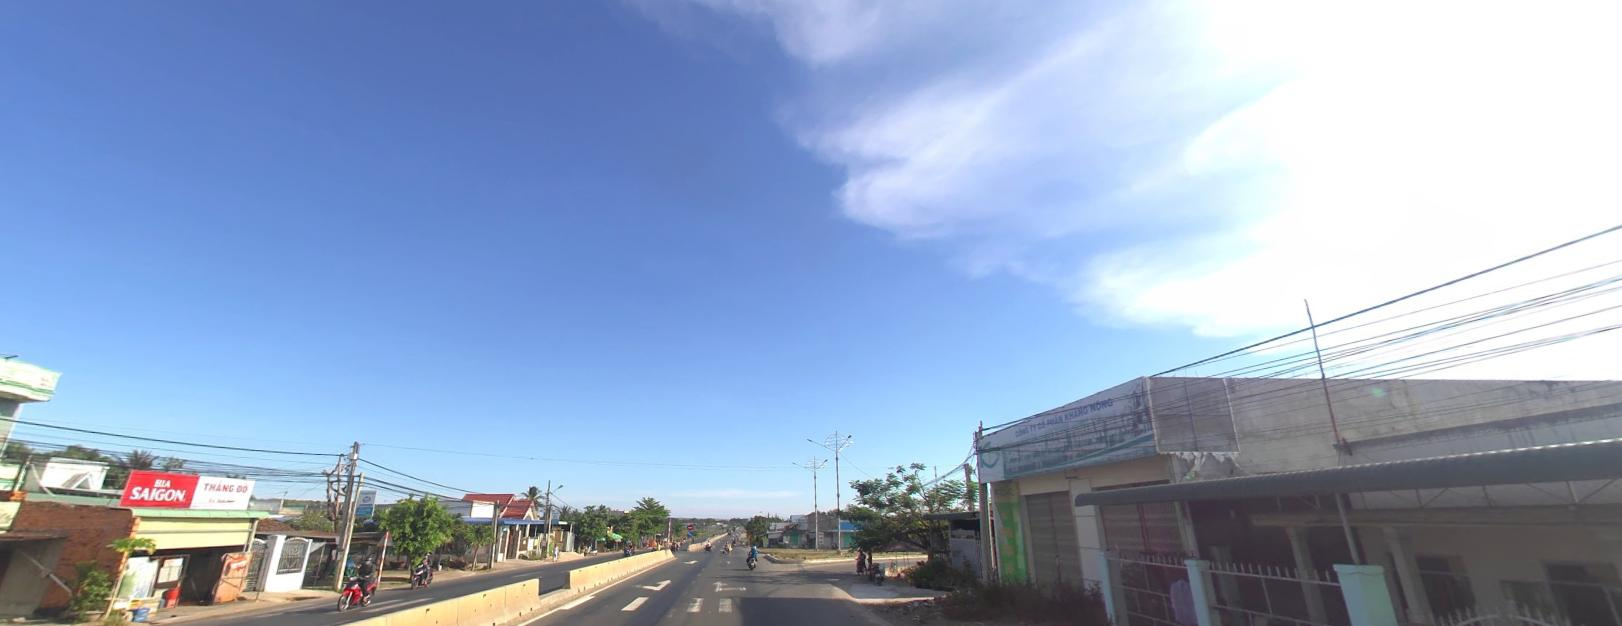Cam nguoc chieu: (687, 523, 692, 528), (687, 524, 692, 529)
Hieu lenh: (687, 530, 693, 535), (687, 530, 692, 535)
